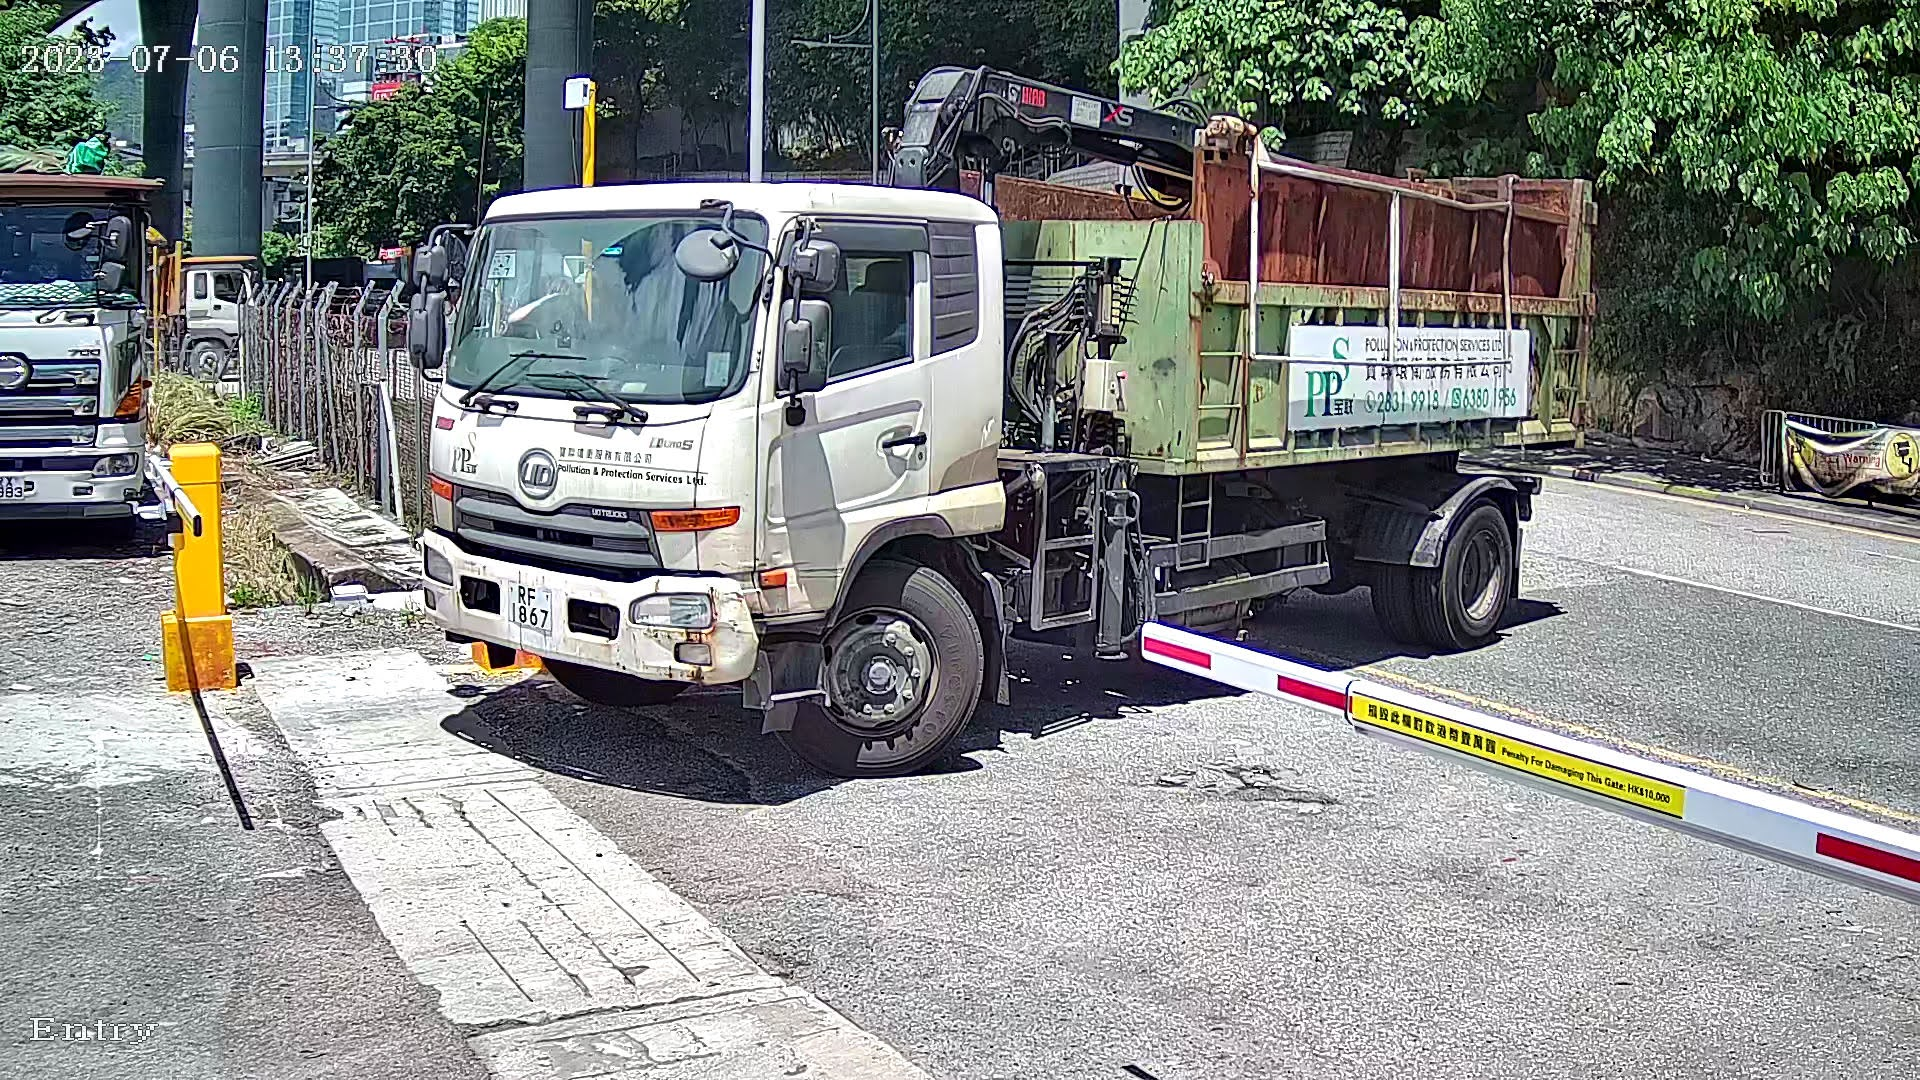truck: (377, 32, 1611, 802)
